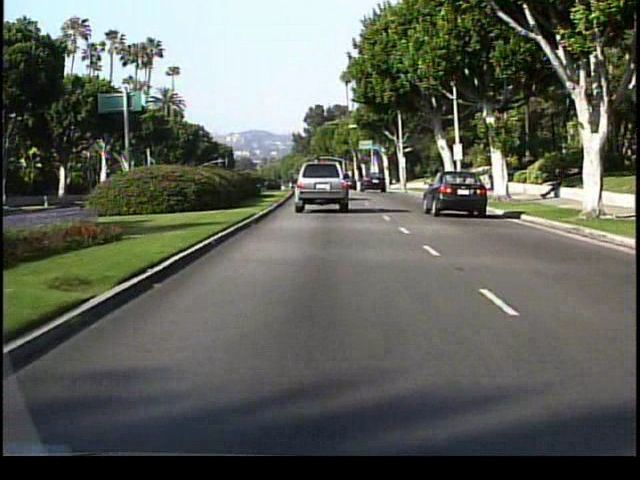person: (544, 163, 569, 203)
